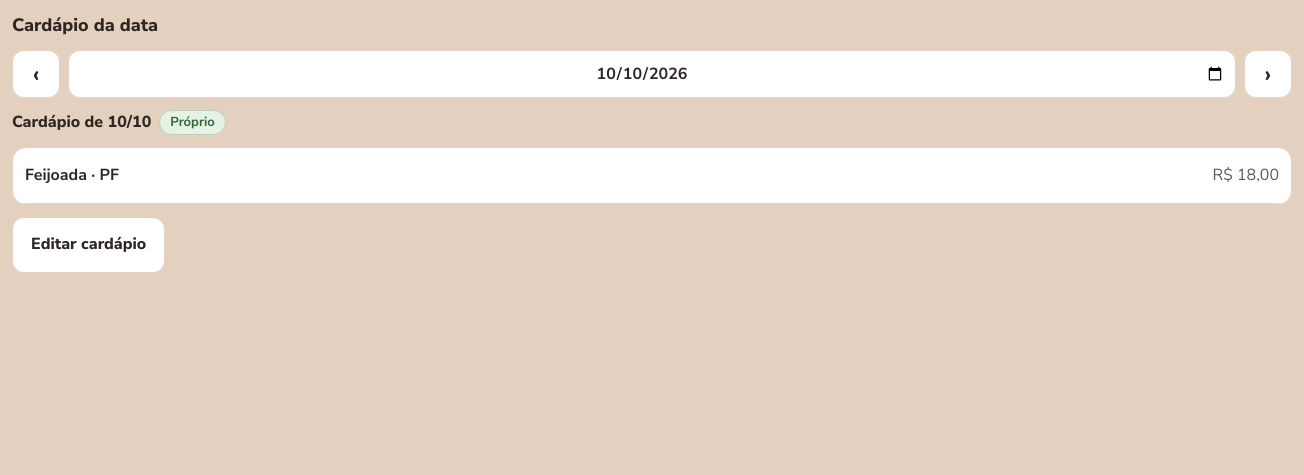
UI-08 — cardápio da data › erro de envio preserva a seleção
The image size is (1304, 475).
Click the button "Editar cardápio" at point(89, 245), box [12, 217, 165, 273]
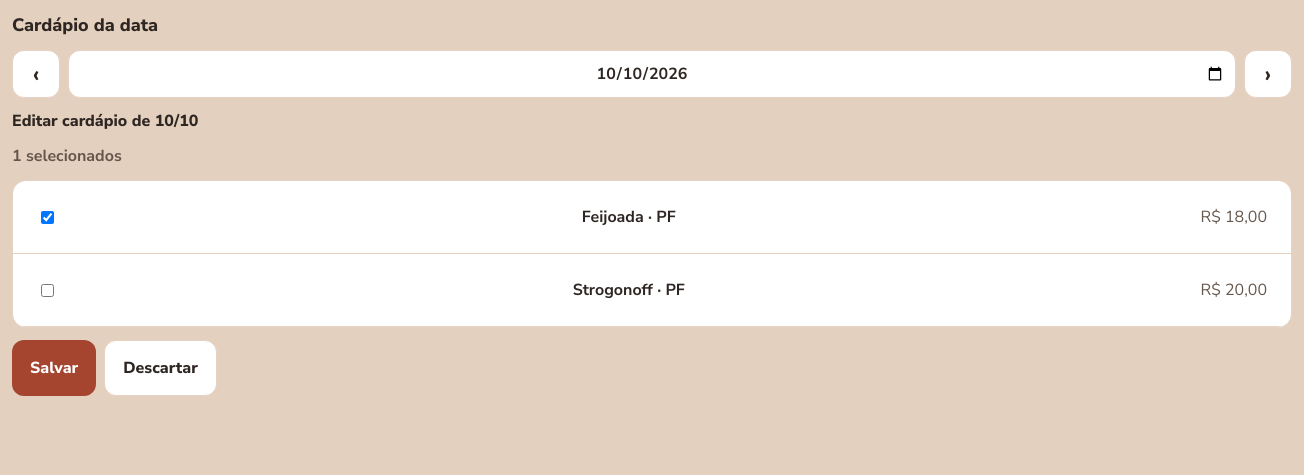
Click the checkbox labelled "Strogonoff · PF R$ 20,00" at point(48, 290), box [41, 284, 54, 297]
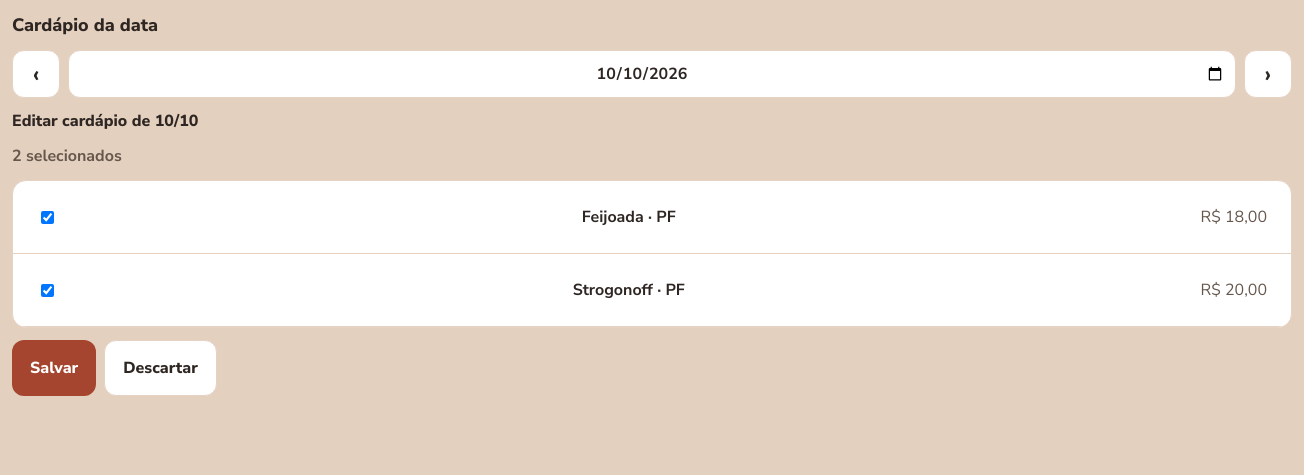
Click the button "Salvar" at point(54, 368), box [12, 340, 96, 396]
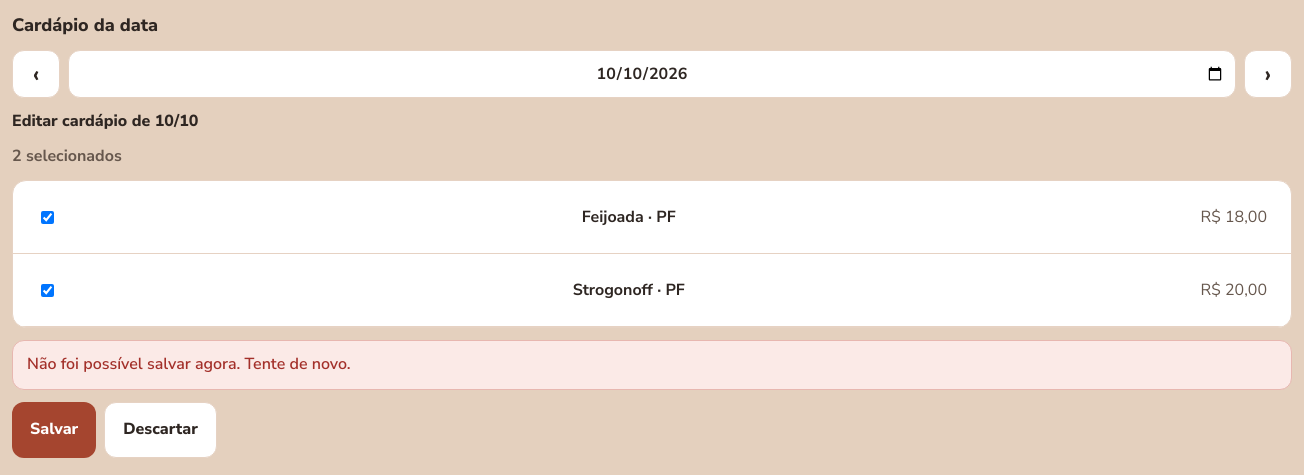
Now the button "Salvar" is enabled, box [12, 402, 96, 458]
Now the checkbox labelled "Feijoada · PF R$ 18,00" is checked, box [41, 211, 54, 224]
Now the text "Não foi possível salvar agora. Tente de novo." is shown, box [12, 340, 1292, 390]
